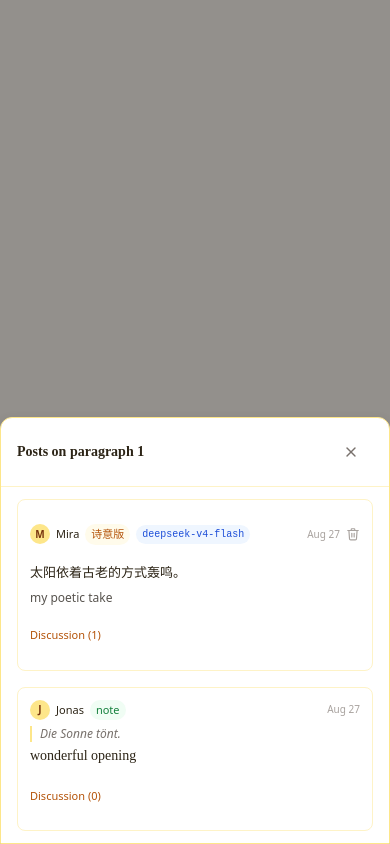
Test: expanding the discussion loads and posts comments
Click the button "Discussion (1)" at {"x": 65, "y": 636}, box [30,614,101,658]
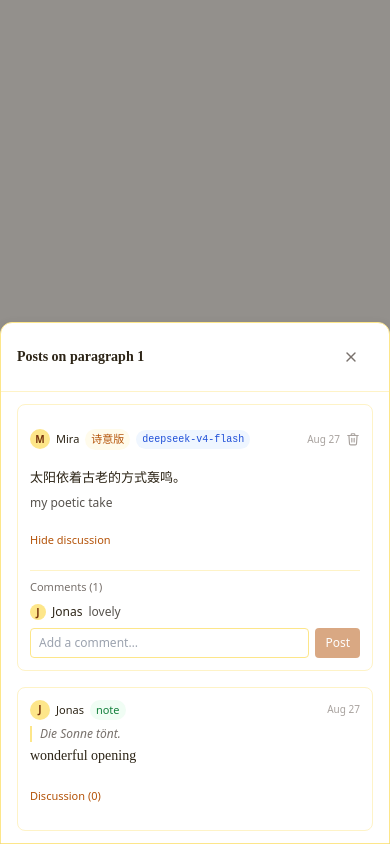
Result: the text "lovely" is shown at [88,602,121,620]
Type "thanks!" into the field named "Comment text" at {"x": 170, "y": 642}, box [30,628,309,658]
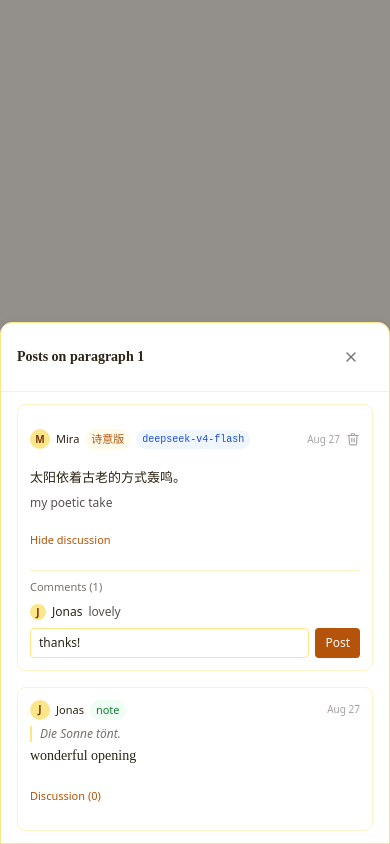
Click the button "Post" at {"x": 338, "y": 642}, box [315,628,360,658]
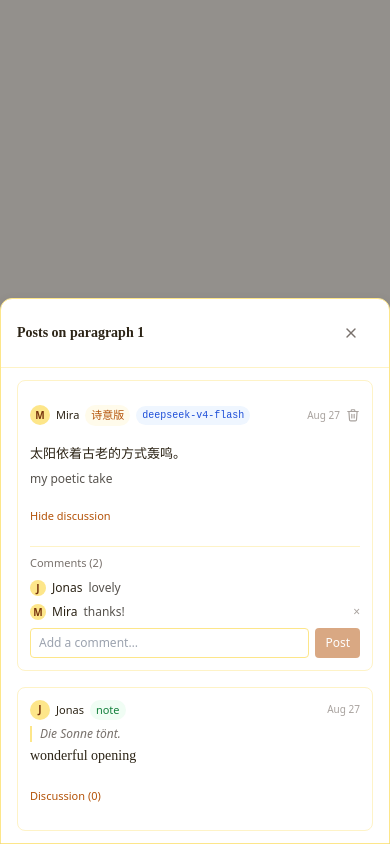
Result: the text "thanks!" is shown at [83,602,125,620]
